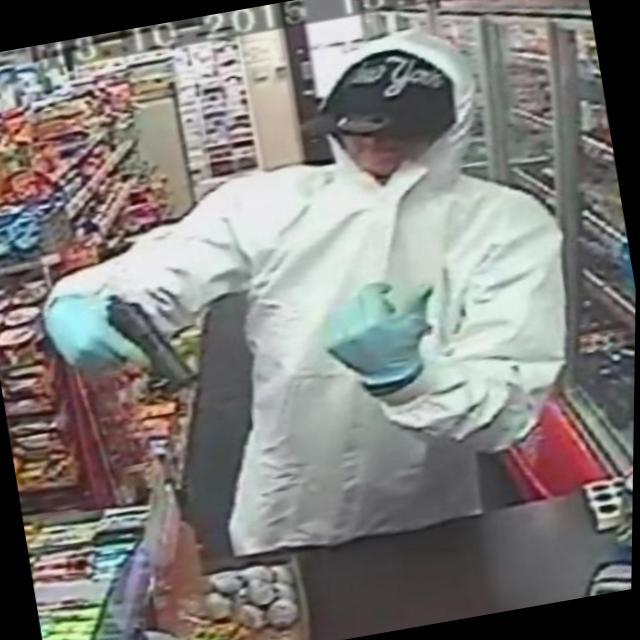weapon: (88, 273, 211, 407)
